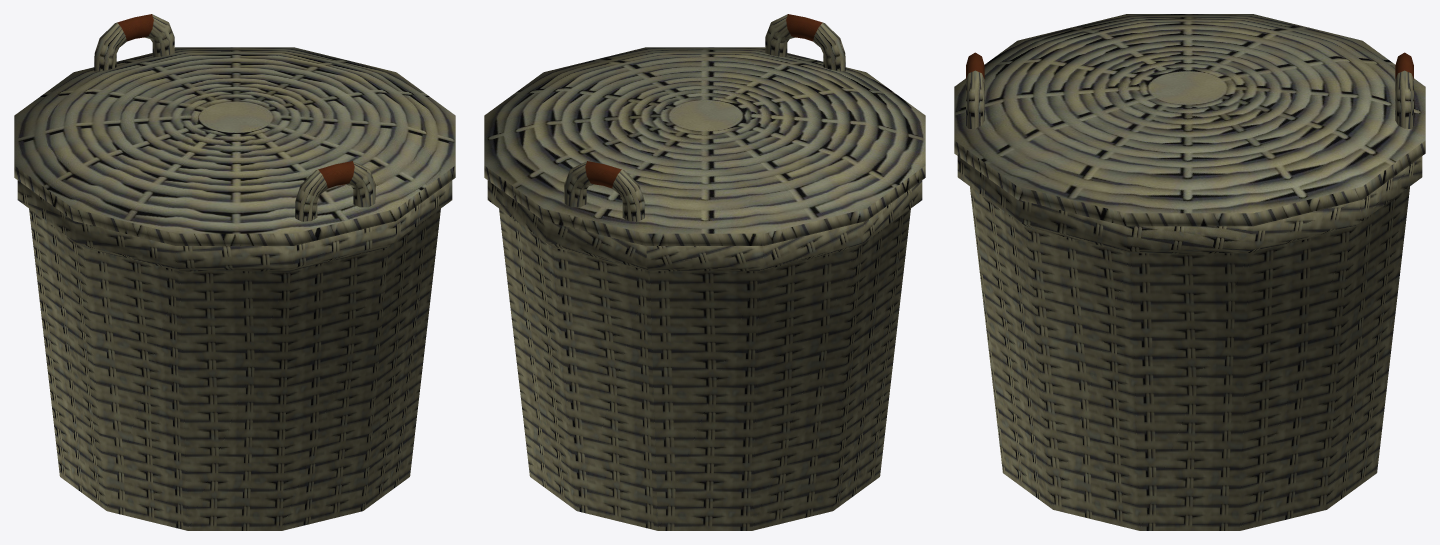
File: cesto1.glb
3 renders of one model, left to right at view 1: azimuth 30°, elevation 25°; view 2: azimuth 150°, elevation 25°; view 3: azimuth 270°, elevation 25°, orthographic. The views are drawn at different scales.
Parts seen in each view (by area): view 1: Basket1_6; view 2: Basket1_6; view 3: Basket1_6.
Part boxes in pixels (x1=…): Basket1_6: x1=14, y1=14, x2=455, y2=530; Basket1_6: x1=484, y1=14, x2=925, y2=530; Basket1_6: x1=954, y1=14, x2=1425, y2=530.
Bounding box in the file's own units: 0.517 × 0.4735 × 0.517.
Materials: 3 (3 with a texture image).
